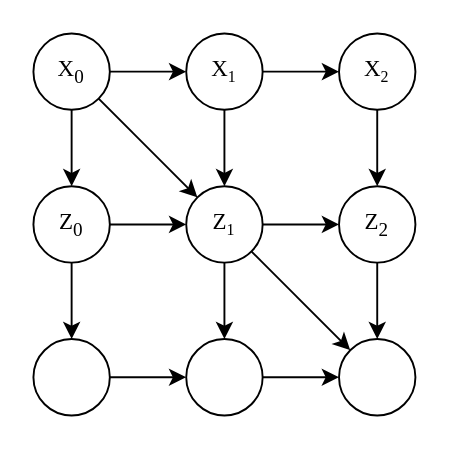
The diagram is 449 pixels wide and 449 high, and some of its shapes have lost their labels. The centre of each missing label's shape, as x and y in pixels:
Y 0: (71,376)
Y 1: (223,376)
Y 2: (376,376)
